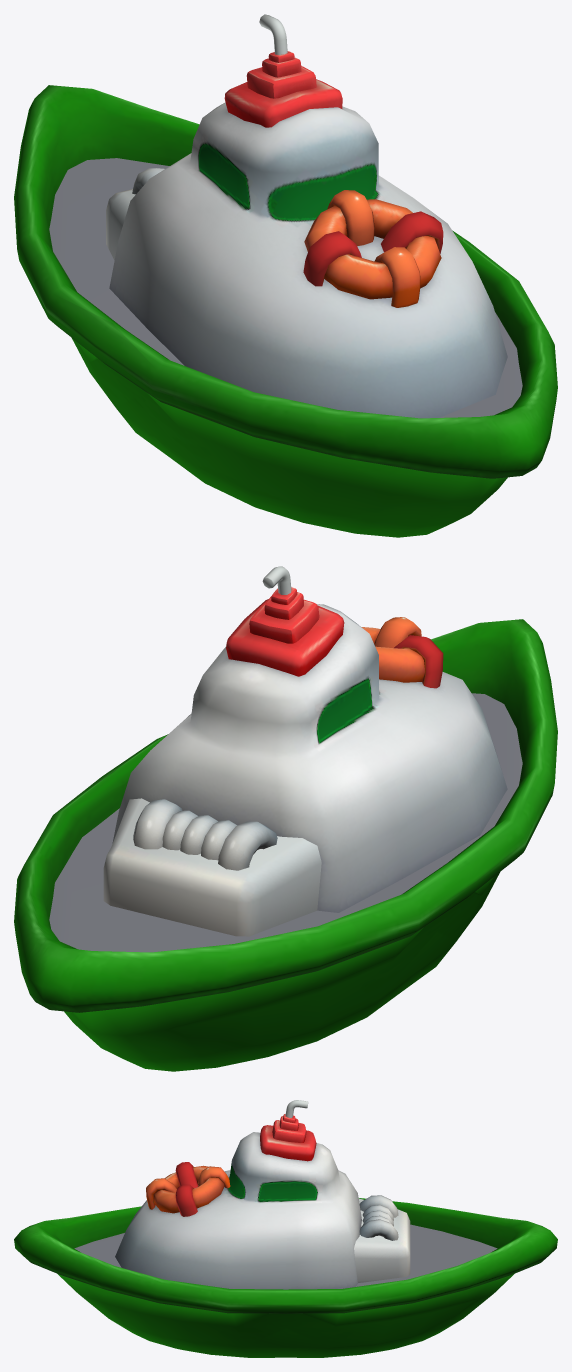
File: boat.fbx
3 views of the same model, one above another, from view 1: azimuth 30°, elevation 25°; view 2: azimuth 150°, elevation 25°; view 3: azimuth 270°, elevation 25° (orthographic). The views are drawn at different scales.
Parts seen in each view (by area): view 1: boat; view 2: boat; view 3: boat.
Part boxes in pixels (bbox=[...]): boat: bbox=[14, 14, 557, 537]; boat: bbox=[14, 566, 557, 1071]; boat: bbox=[14, 1100, 557, 1357].
Size of the model in its own units: 85.72 by 89.09 by 190.
